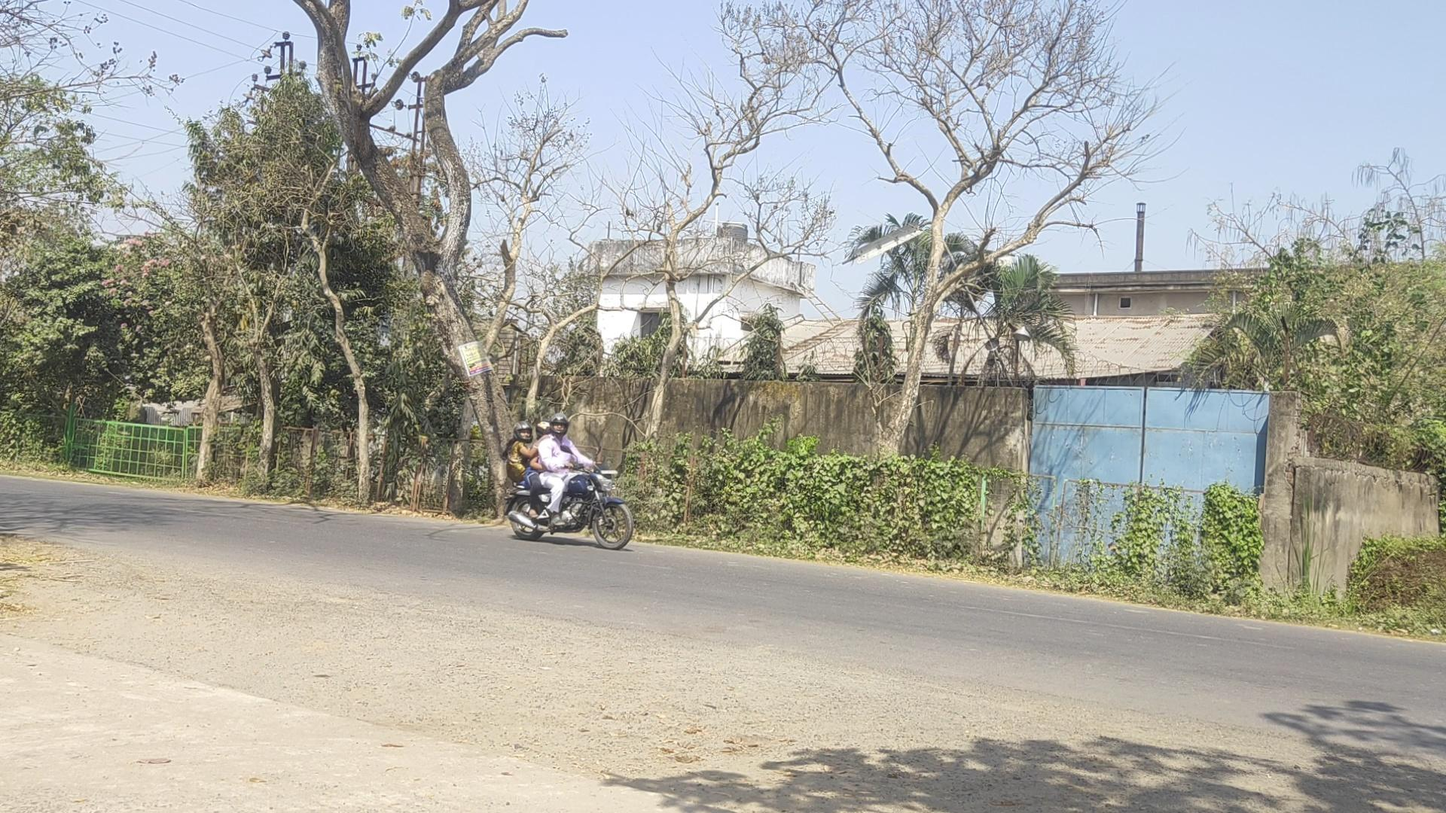bike: (503, 413, 634, 550)
